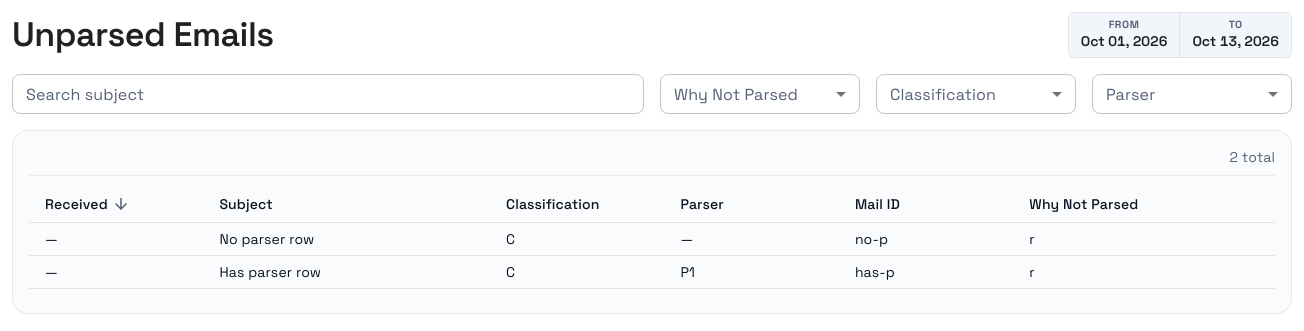
Test: UnparsedEmails › Parser filter "(Has Parser)" shows only rows with a parser
Expected: the text "No parser row" is shown, x1=203 y1=222 x2=490 y2=255
Expected: the text "Has parser row" is shown, x1=203 y1=255 x2=490 y2=288
Click the dropdown with id "unparsed-filter-parser". click: (1192, 94)
box: x1=1092 y1=74 x2=1292 y2=114
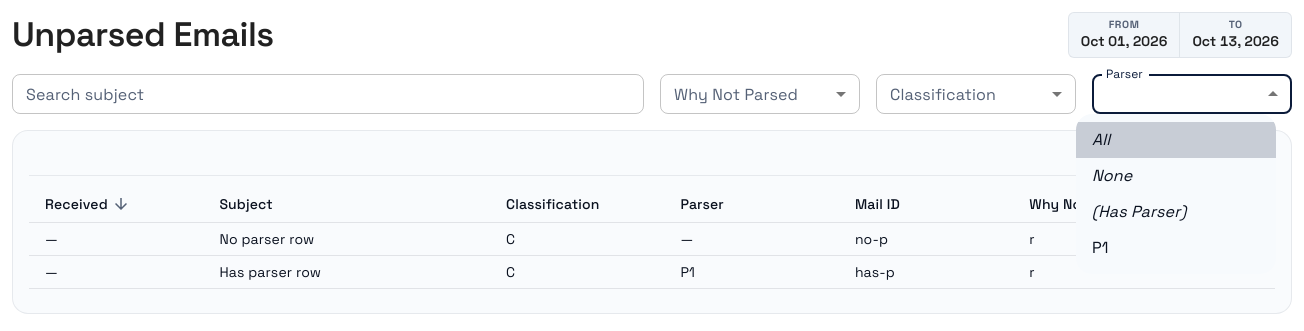
Click the option "(Has Parser)". click: (1139, 212)
box: x1=1092 y1=201 x2=1186 y2=222
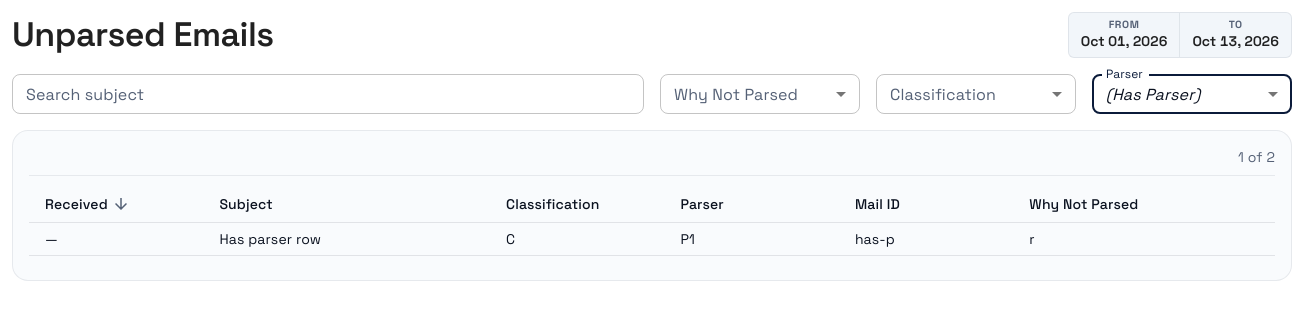
Expected: the text "Has parser row" is shown, x1=203 y1=222 x2=490 y2=255
Now the button "No parser row" is gone
